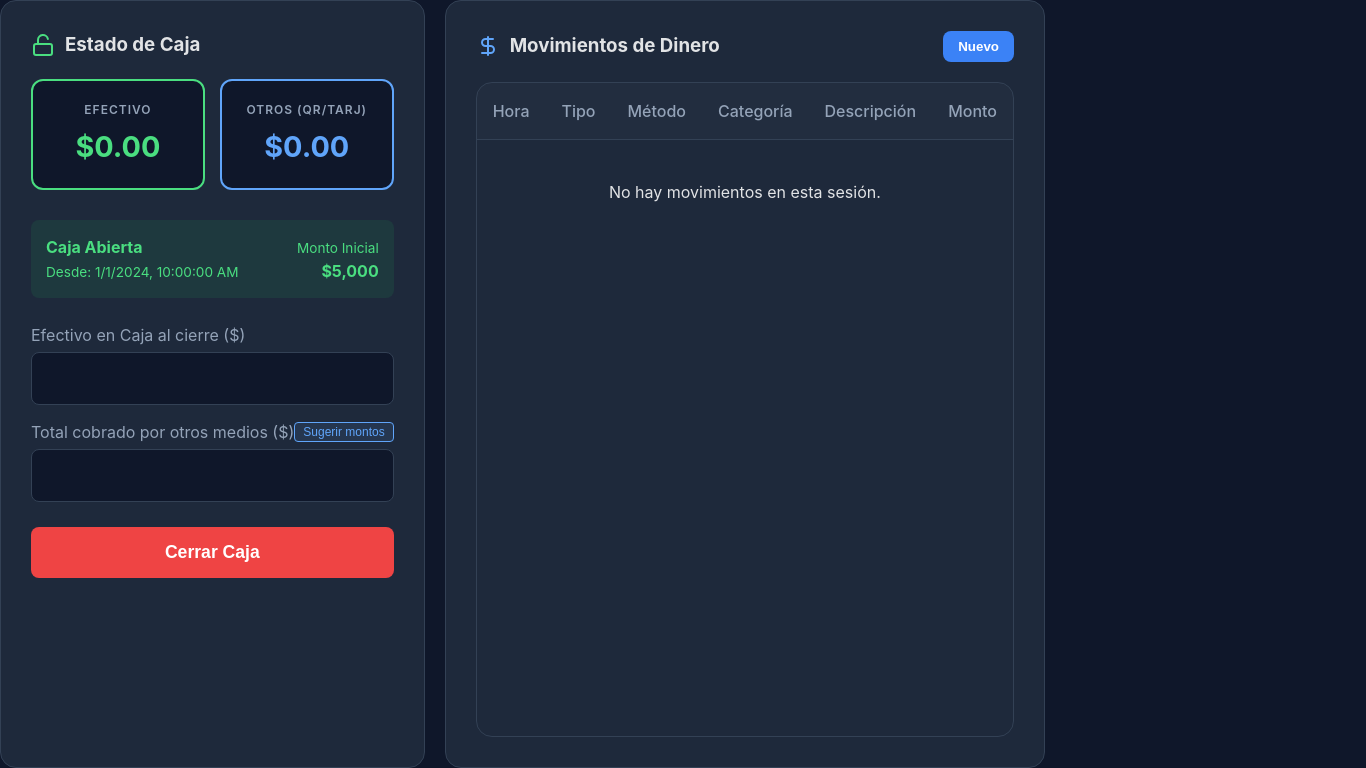
Test: Caja – movement modal › closes movement modal on Cancelar click
Click the button "Nuevo".
click(979, 46)  # box left=943, top=31, right=1014, bottom=62
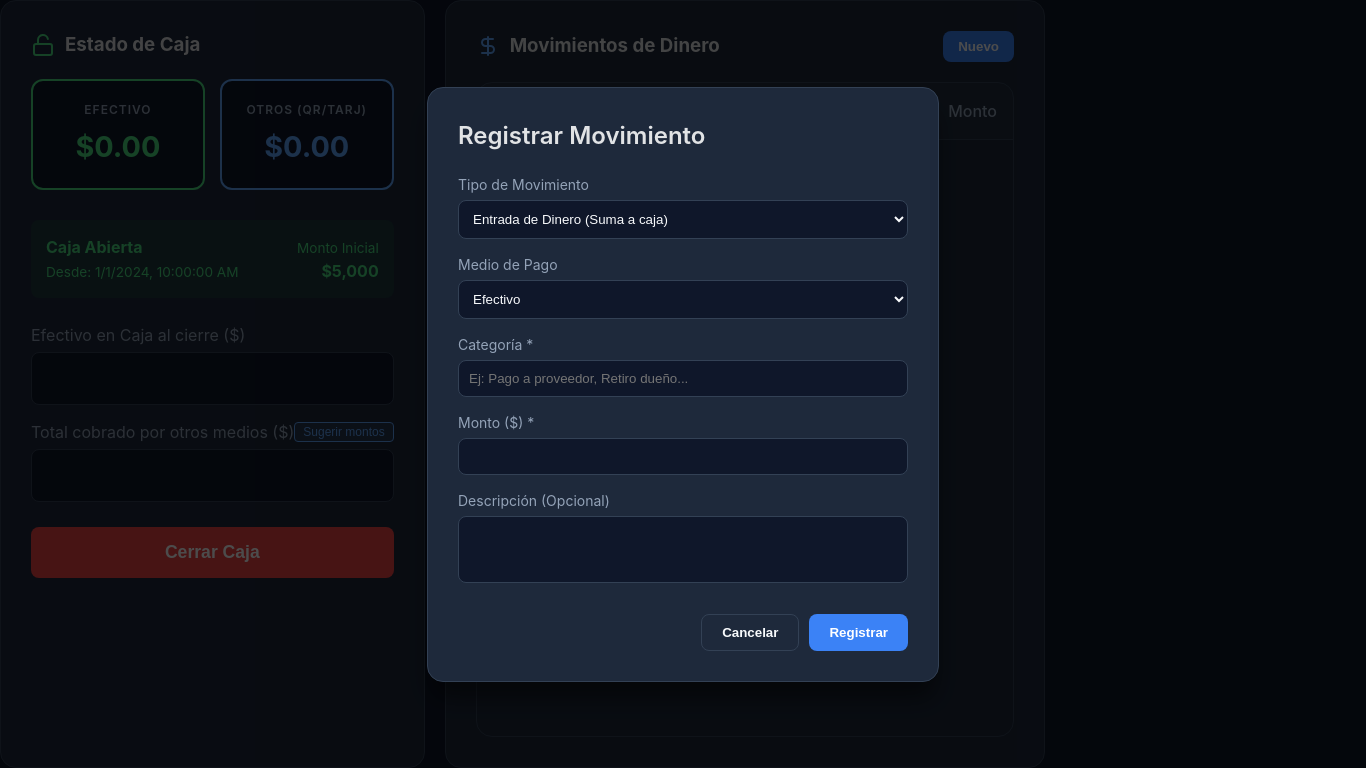
Now the heading "Registrar Movimiento" is shown, box left=458, top=120, right=706, bottom=150
Click the button "Cancelar".
click(750, 632)  # box left=701, top=614, right=800, bottom=650
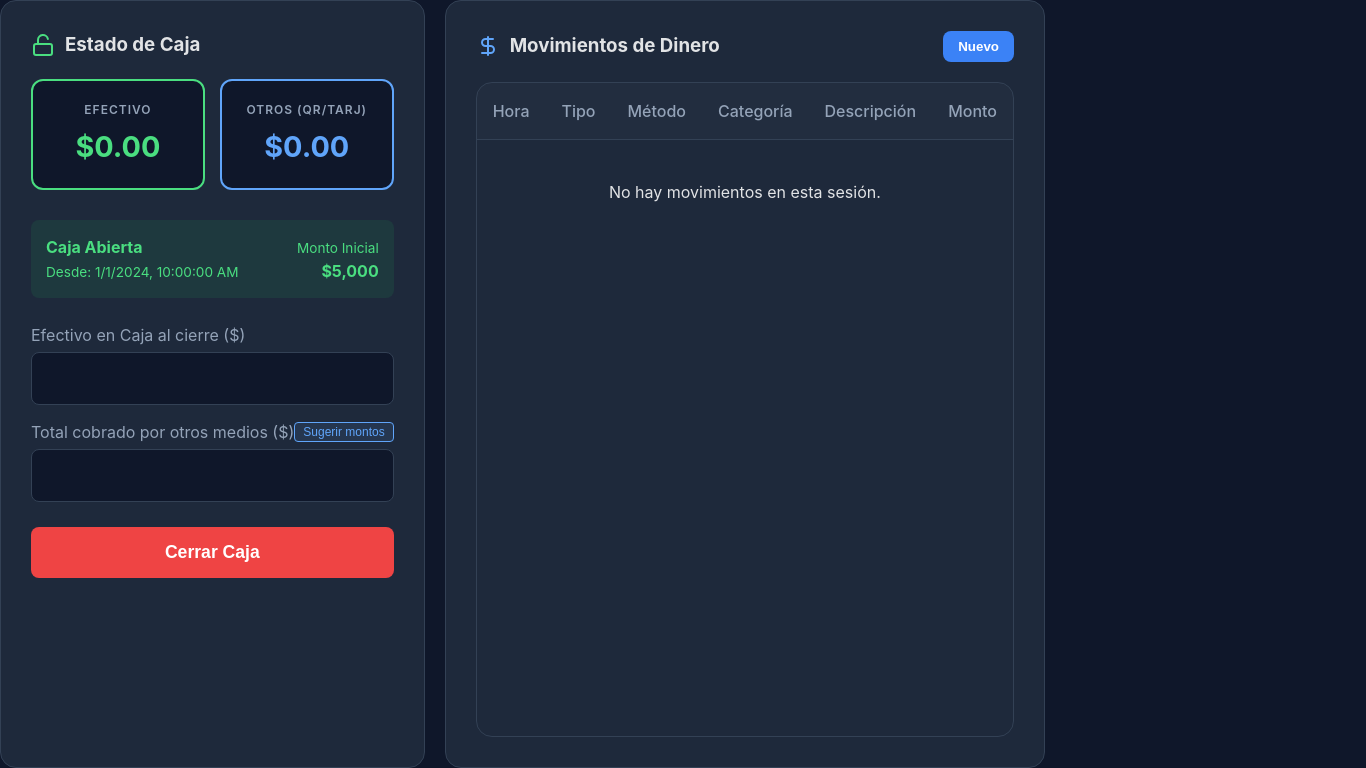
Now the heading "Registrar Movimiento" is gone
